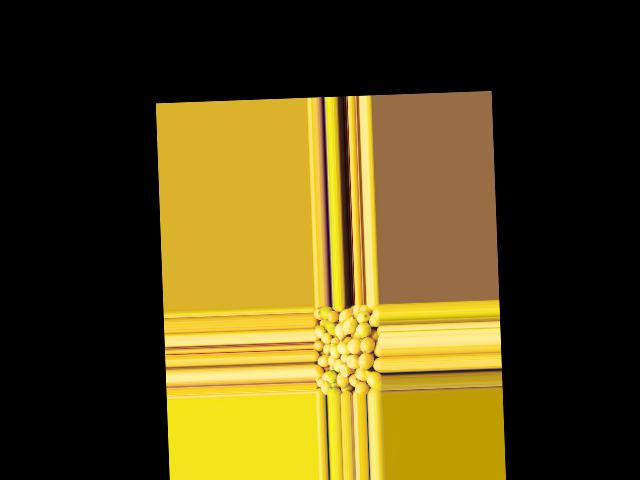lemon: (374, 343, 382, 356)
